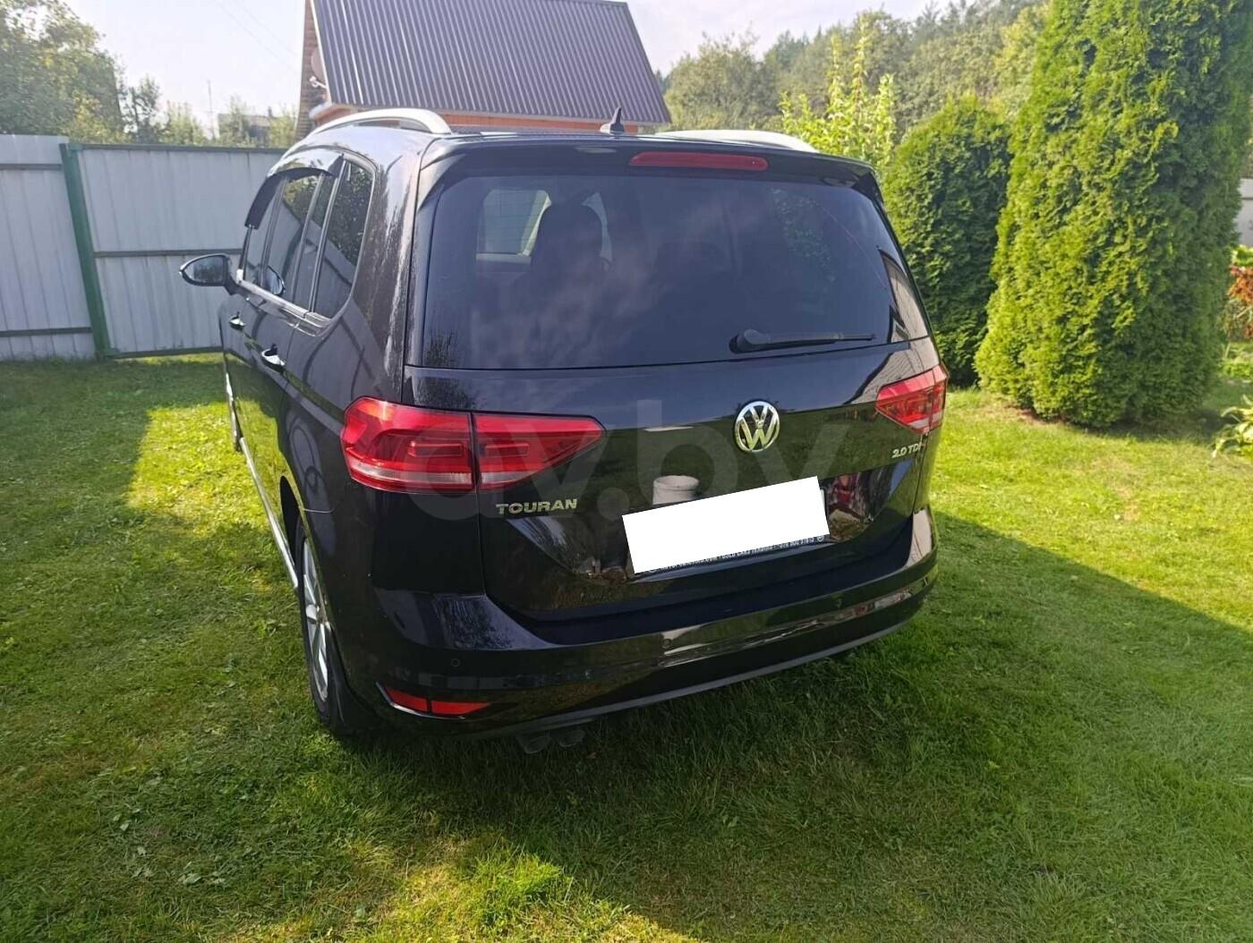Touran_2015: (175, 110, 949, 755)
